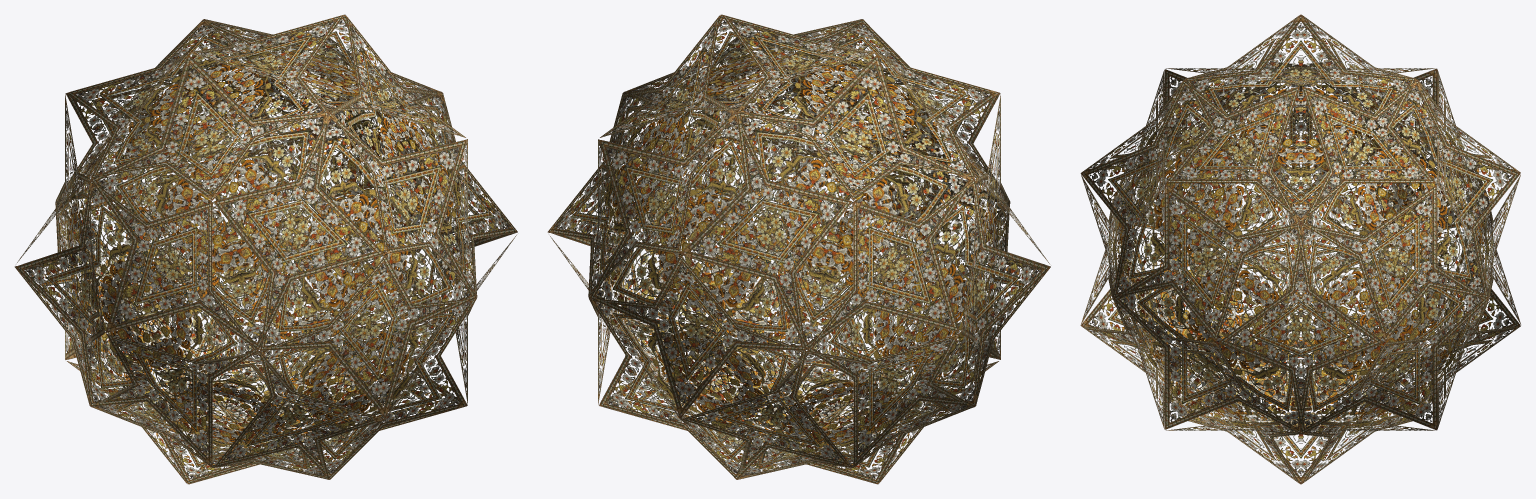
The model's file is SmallTriambicIcosahedron12.gltf.
The picture shows the model from 3 angles, left to right: view 1: azimuth 30°, elevation 25°; view 2: azimuth 150°, elevation 25°; view 3: azimuth 270°, elevation 25°; orthographic projection. The views are drawn at different scales.
Visible parts, largest first — view 1: SmallTriambicIcosahedron; view 2: SmallTriambicIcosahedron; view 3: SmallTriambicIcosahedron.
Part boxes in pixels (left/top/right/bottom): SmallTriambicIcosahedron: left=14, top=14, right=517, bottom=484; SmallTriambicIcosahedron: left=547, top=14, right=1050, bottom=484; SmallTriambicIcosahedron: left=1080, top=14, right=1520, bottom=484.
Bounding box in the file's own units: 1.45 × 1.45 × 1.45.
Materials: 1 (1 with a texture image).
